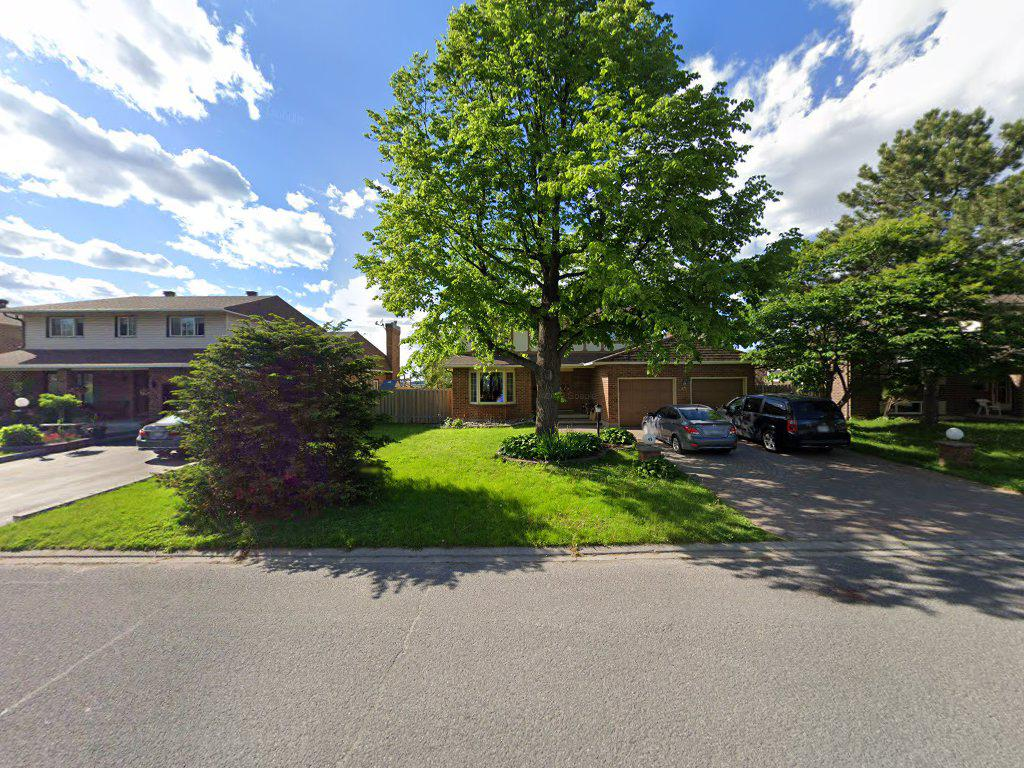trunk: (532, 244, 566, 448)
